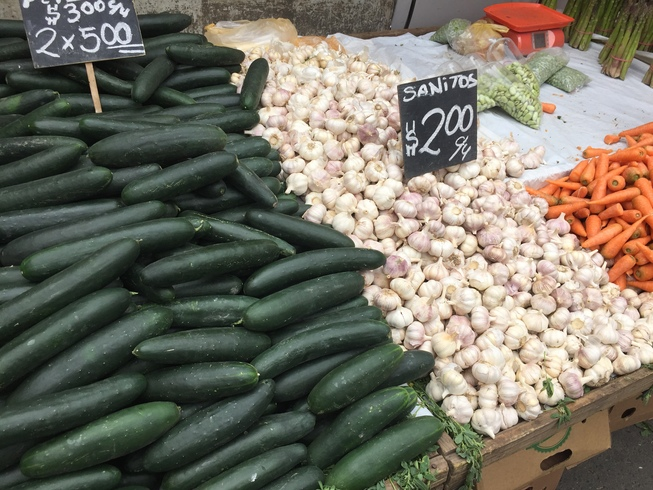precio: (10, 1, 162, 85), (391, 63, 483, 181)
